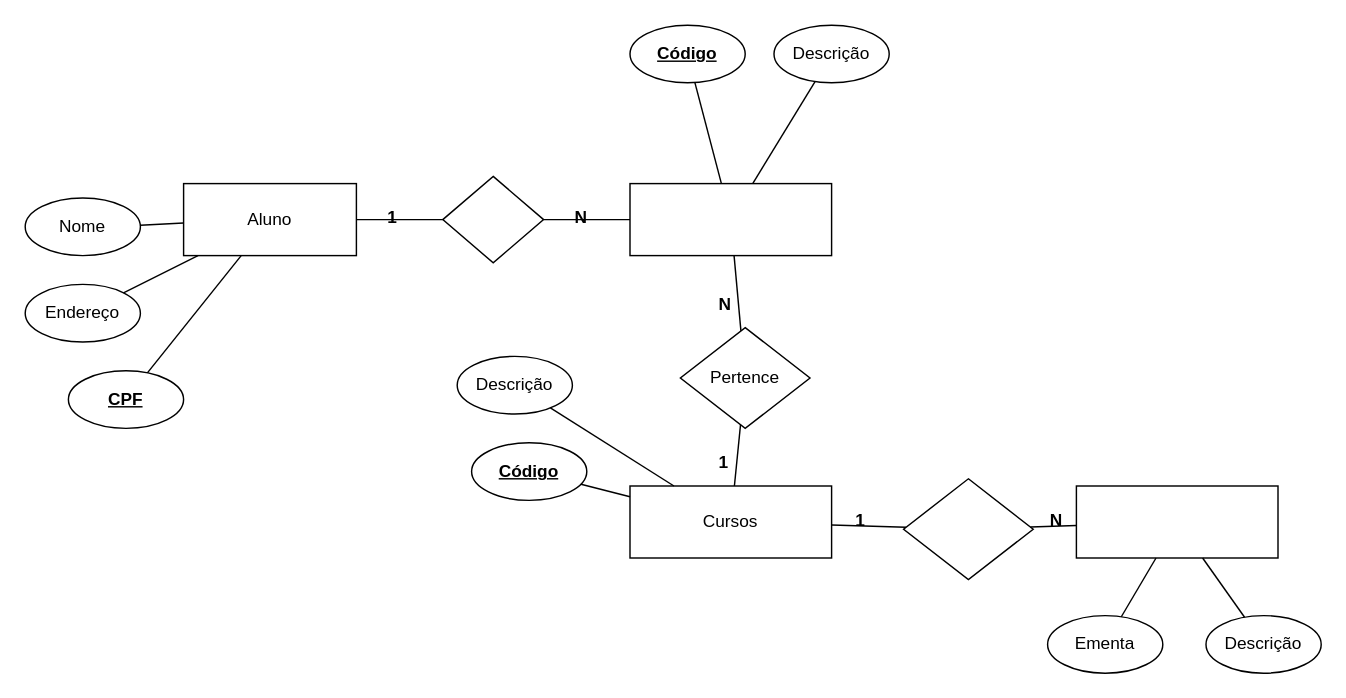
Image size: 1346x698. Some labels were removed from this diagram. The box of each missing label's shape, as (x1, y1, x2, y2) in pixels:
Disciplinas: (1075, 485, 1278, 558)
Matrículas: (629, 182, 832, 256)
Possui: (902, 477, 1033, 580)
Tem: (441, 175, 544, 263)
